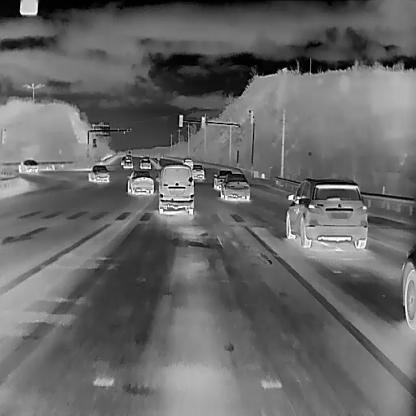car: (285, 176, 367, 249), (156, 162, 194, 214), (220, 173, 252, 202), (126, 169, 154, 195), (87, 162, 111, 184), (213, 167, 233, 190), (18, 159, 38, 173), (190, 163, 205, 181), (120, 153, 133, 168), (138, 156, 152, 169), (182, 156, 193, 169)
